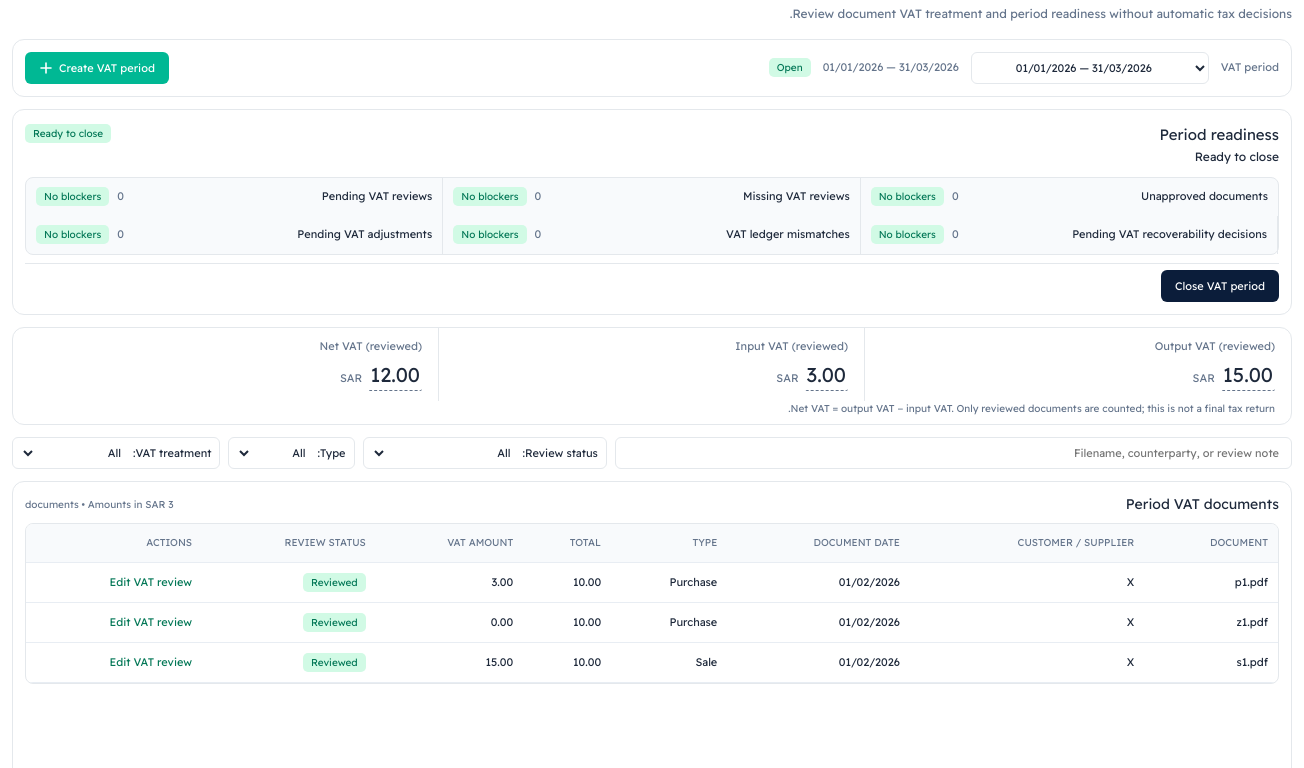
VAT summary drill-down › Input VAT drill-down lists only positive-VAT contributors, not zero-VAT documents
Check: the cell "z1.pdf" is shown, box [1144,602,1278,642]
Click the button named "Input VAT" at (826, 375), box [805,359,848,391]
(page scrolled)
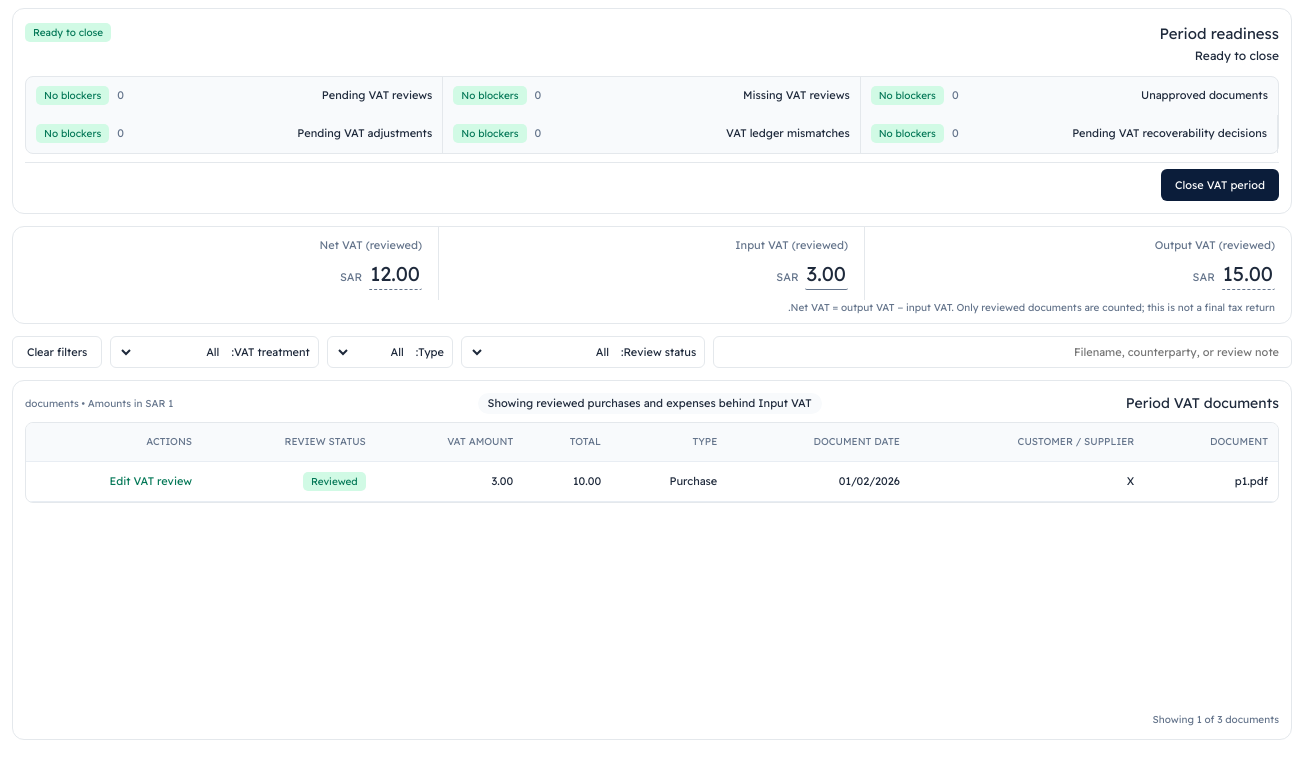
Check: the cell "p1.pdf" is shown, box [1144,462,1278,502]
Check: the cell "z1.pdf" is gone
Check: the cell "s1.pdf" is gone
